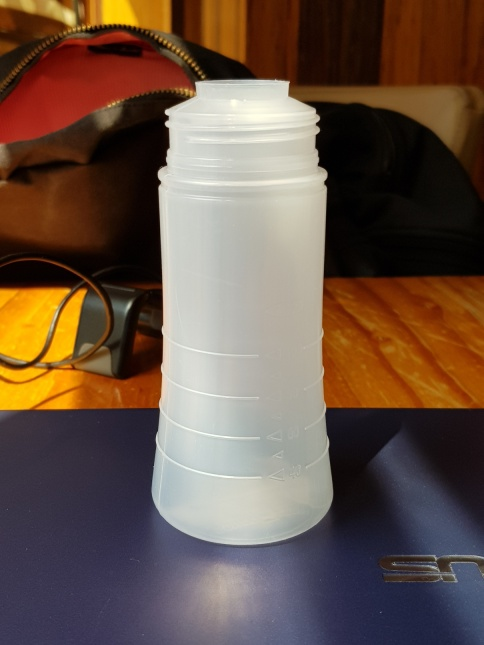Plastic: (144, 73, 341, 548)
